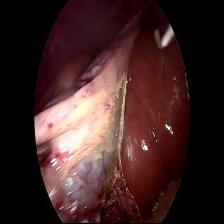Hook: (150, 14, 176, 52)
